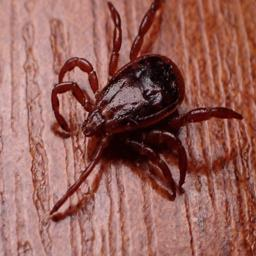Rhipicephalus sanguineus: (48, 0, 243, 216)
